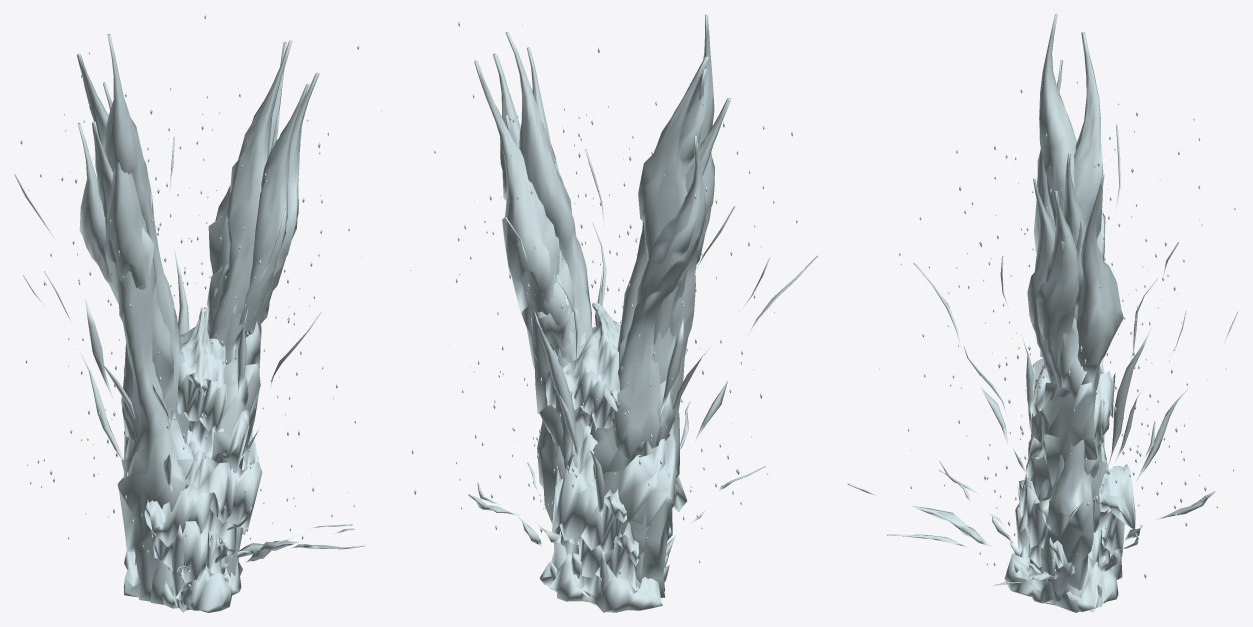
The model's file is fork-peak.glb.
The picture shows the model from 3 angles, left to right: view 1: azimuth 30°, elevation 25°; view 2: azimuth 150°, elevation 25°; view 3: azimuth 270°, elevation 25°; orthographic projection. The views are drawn at different scales.
Parts seen in each view (by area): view 1: Shell water / deforming core, jets and drops; view 2: Shell water / deforming core, jets and drops; view 3: Shell water / deforming core, jets and drops.
Boxes of the visible parts, box(x1,y1,x2,y2) form: Shell water / deforming core, jets and drops: box(14, 14, 381, 612); Shell water / deforming core, jets and drops: box(410, 14, 818, 612); Shell water / deforming core, jets and drops: box(847, 14, 1238, 612).
Bounding box in the file's own units: 0.621 × 1.02 × 0.6737.
